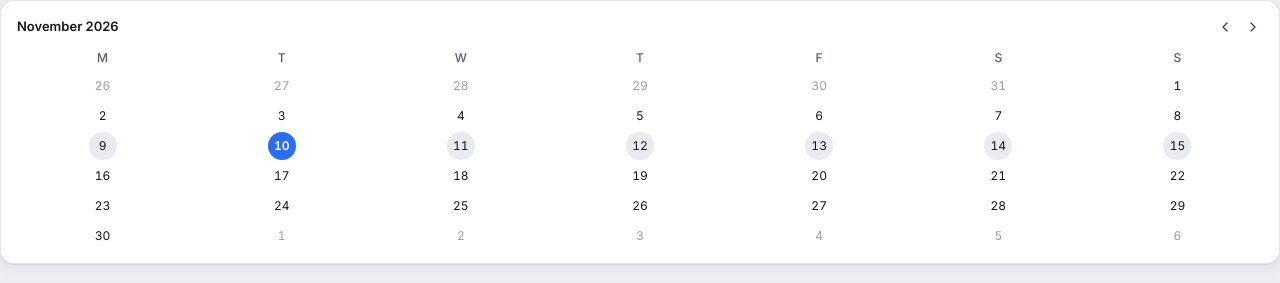
Test: MiniMonth › its arrows page the month without moving the calendar
Click the button named "Next month" at (1253, 27), box [1239,13,1267,41]
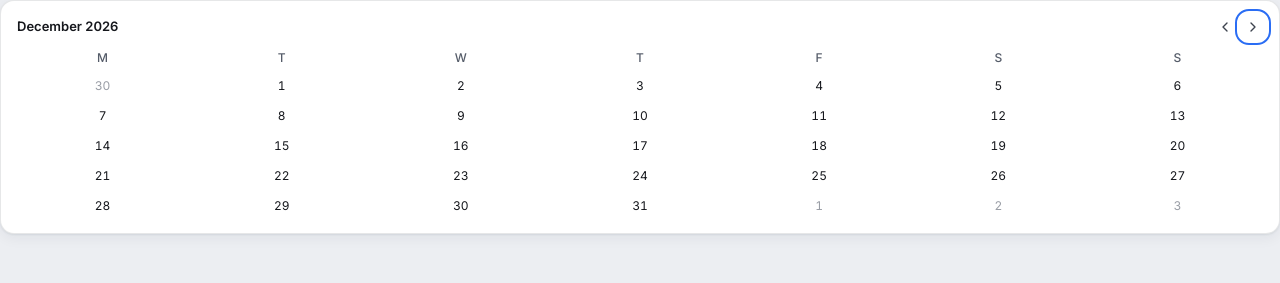
Check: the text "December 2026" is shown, box [17,18,118,34]
